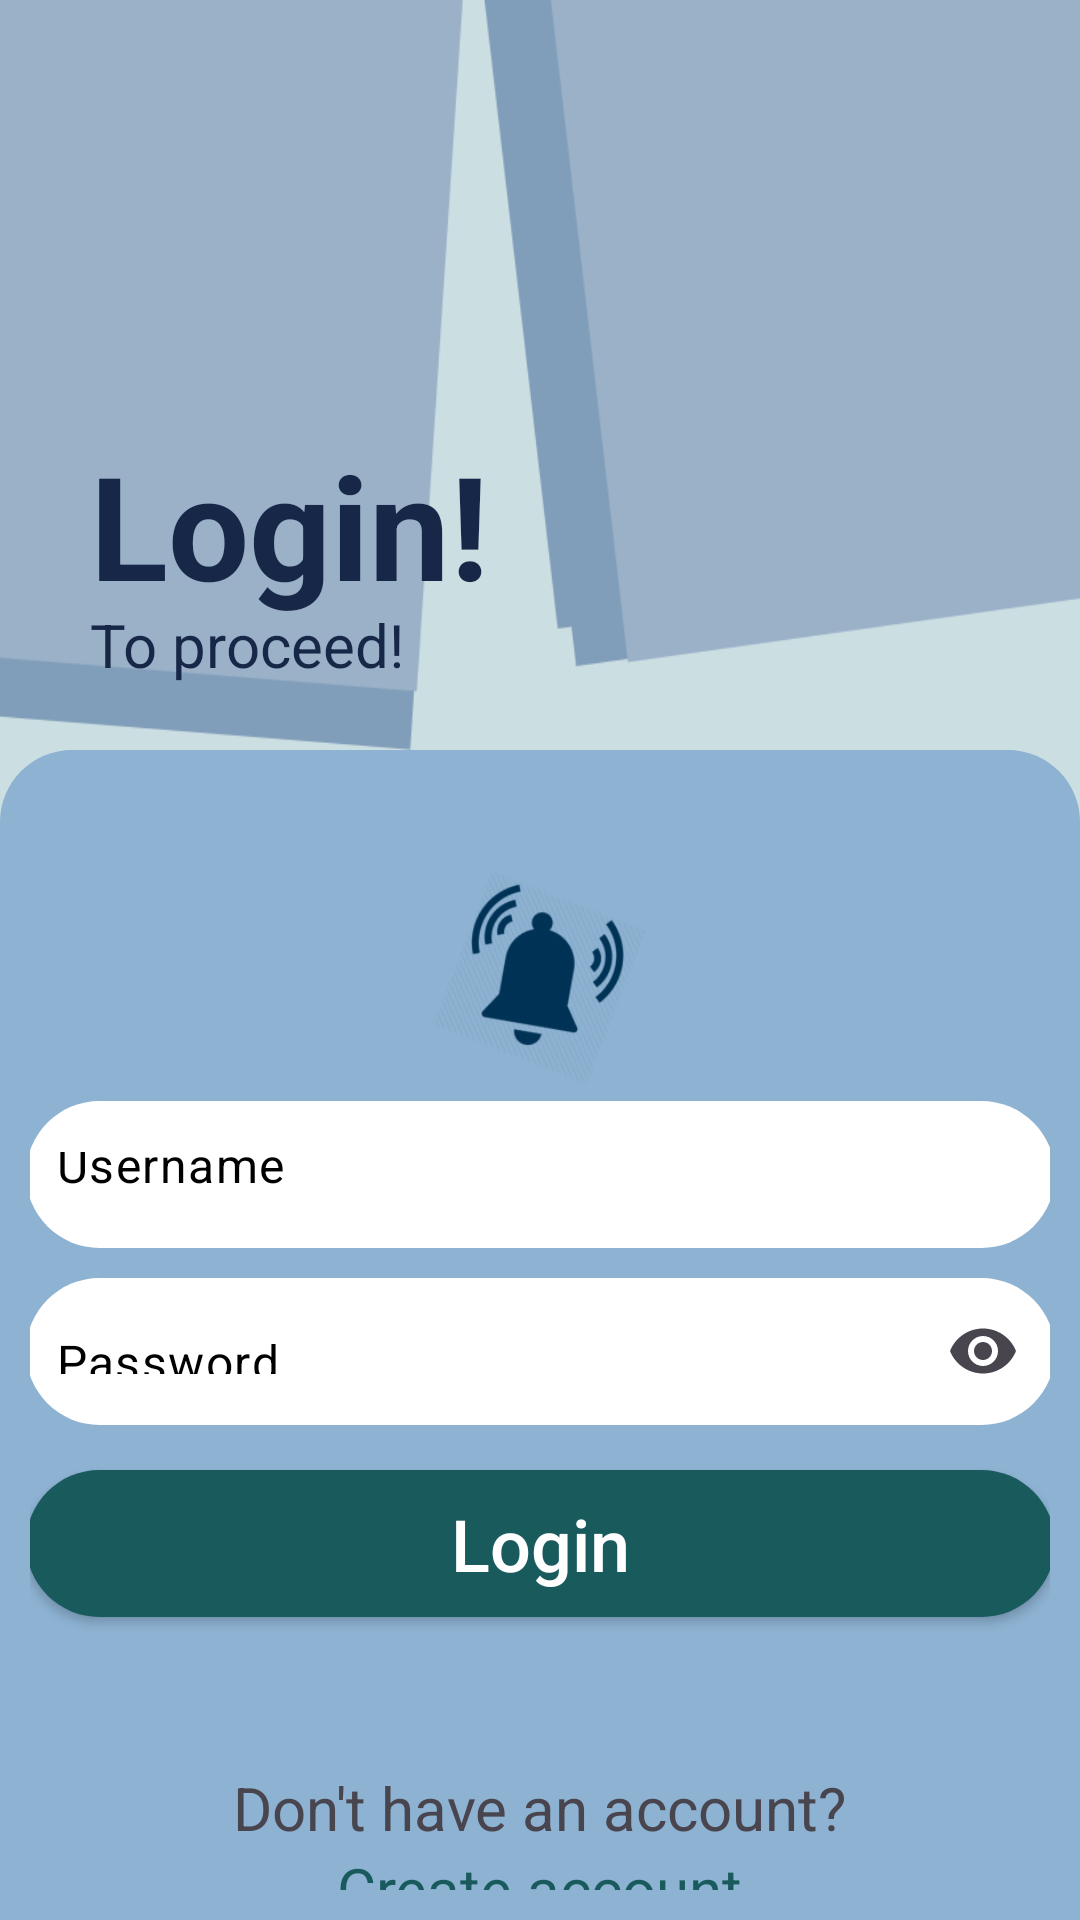

Screen size 1080*1920. Icon name, then its box in pixels as (x1, y1, x2, y2):
bell auth: (471, 884, 624, 1045)
